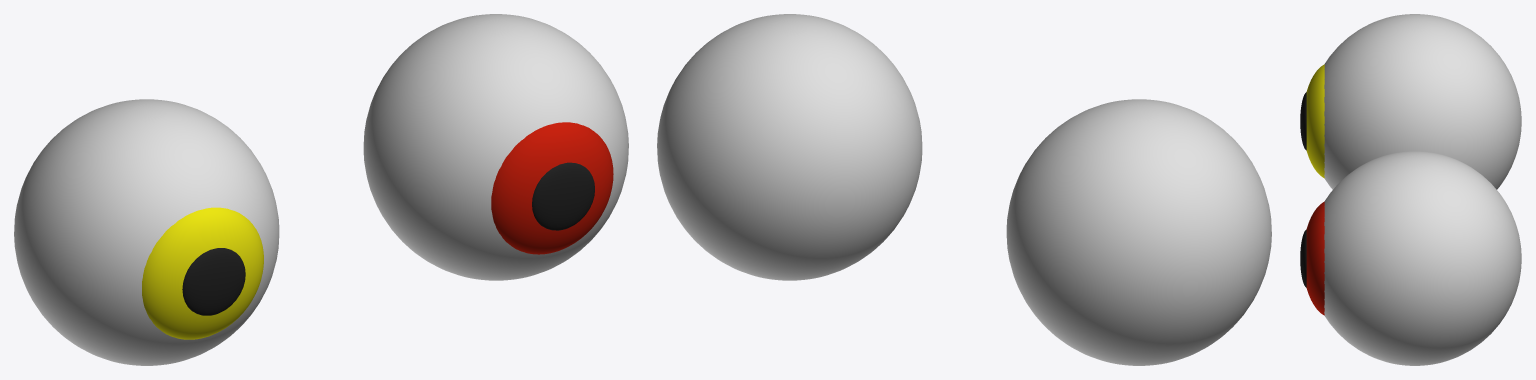
The model's file is Ojos.fbx.
3 renders of one model, left to right at view 1: azimuth 30°, elevation 25°; view 2: azimuth 150°, elevation 25°; view 3: azimuth 270°, elevation 25°, orthographic. The views are drawn at different scales.
Visible parts, largest first — view 1: Sphere, Sphere.006, Sphere.001, Sphere.007, Sphere.008, Sphere.002; view 2: Sphere, Sphere.006; view 3: Sphere, Sphere.006, Sphere.001, Sphere.007, Sphere.002, Sphere.008.
Part boxes in pixels (left/top/right/bottom): Sphere: left=363, top=14, right=628, bottom=280; Sphere.006: left=14, top=99, right=279, bottom=365; Sphere.001: left=491, top=122, right=613, bottom=254; Sphere.007: left=142, top=207, right=263, bottom=339; Sphere.008: left=182, top=248, right=245, bottom=315; Sphere.002: left=532, top=162, right=594, bottom=230; Sphere: left=657, top=14, right=922, bottom=280; Sphere.006: left=1006, top=99, right=1271, bottom=365; Sphere: left=1324, top=151, right=1521, bottom=365; Sphere.006: left=1324, top=14, right=1521, bottom=189; Sphere.001: left=1306, top=201, right=1324, bottom=315; Sphere.007: left=1306, top=64, right=1324, bottom=178; Sphere.002: left=1300, top=229, right=1306, bottom=287; Sphere.008: left=1300, top=92, right=1306, bottom=150.
Bounding box in the file's own units: 497 × 200 × 205.
